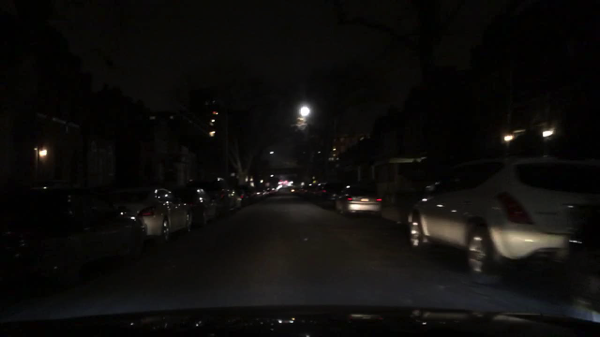car: (405, 158, 599, 286), (0, 185, 147, 290), (110, 184, 191, 245), (566, 210, 599, 323), (173, 184, 219, 227), (334, 184, 382, 218), (211, 185, 241, 215), (313, 179, 345, 207), (234, 185, 255, 205), (302, 180, 318, 198), (248, 185, 264, 202), (297, 181, 308, 198), (258, 187, 269, 197), (266, 187, 277, 195), (289, 185, 297, 195)
